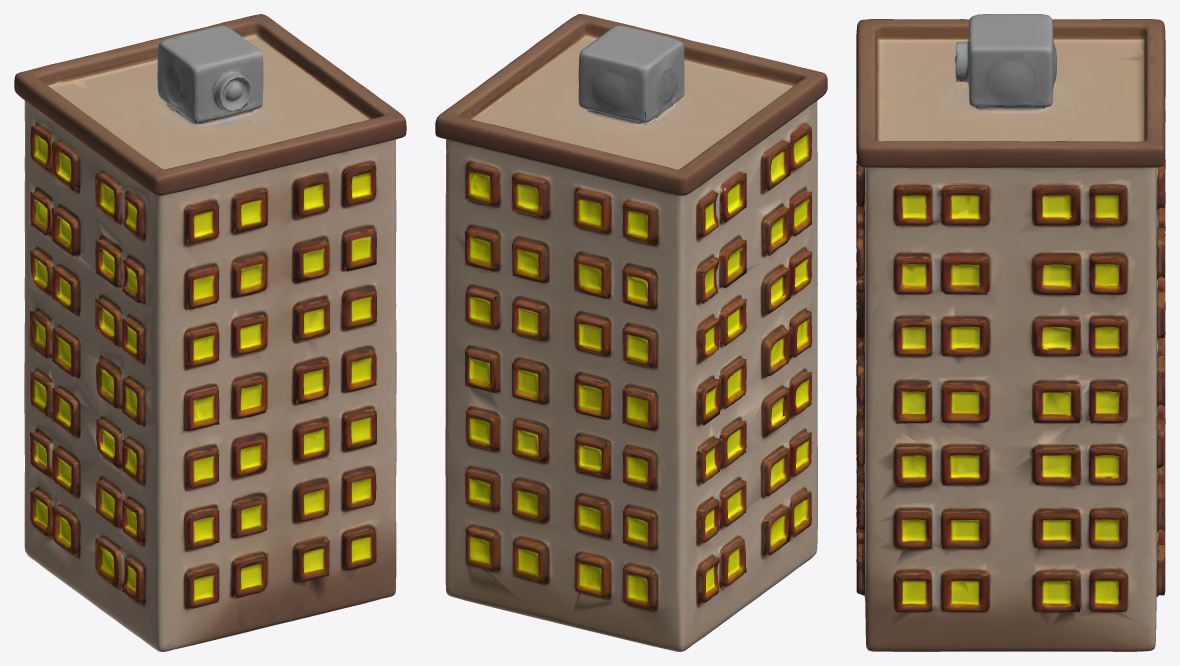
File: env_building_1.glb
3 views of the same model, side by side, from view 1: azimuth 30°, elevation 25°; view 2: azimuth 150°, elevation 25°; view 3: azimuth 270°, elevation 25° (orthographic). The views are drawn at different scales.
Visible parts, largest first — view 1: model; view 2: model; view 3: model.
Part boxes in pixels (box(x1,y1,x2,y2)): model: box(14, 14, 406, 651); model: box(435, 14, 827, 651); model: box(856, 14, 1165, 651).
Bounding box in the file's own units: 0.9495 × 1.9 × 0.9495.
Materials: 1 (1 with a texture image).
